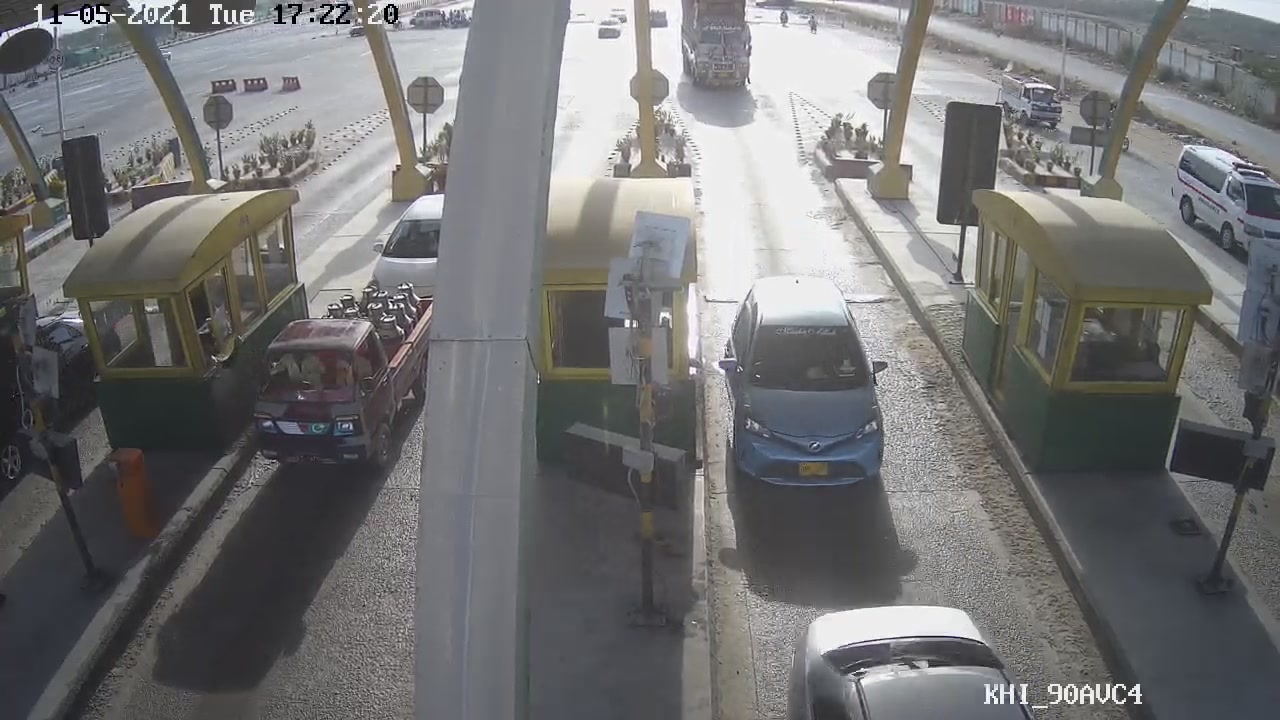F1: (718, 270, 899, 495)
